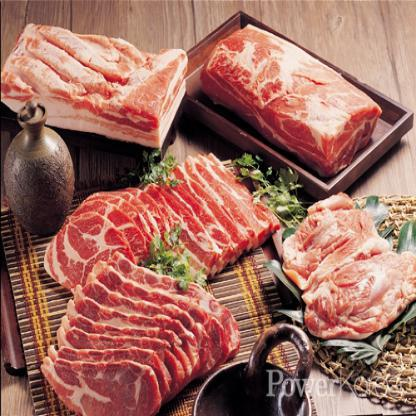pork: (194, 22, 380, 168), (67, 260, 234, 415), (57, 164, 273, 274), (6, 13, 184, 144), (278, 190, 416, 338)
